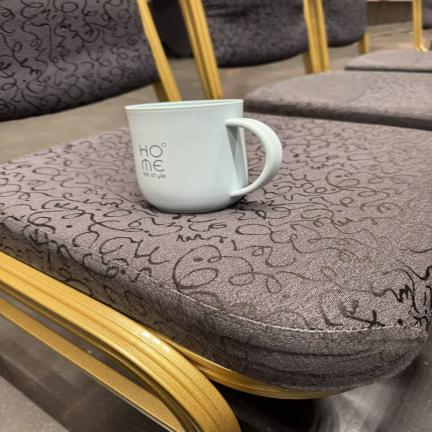cup: (125, 100, 282, 213)
